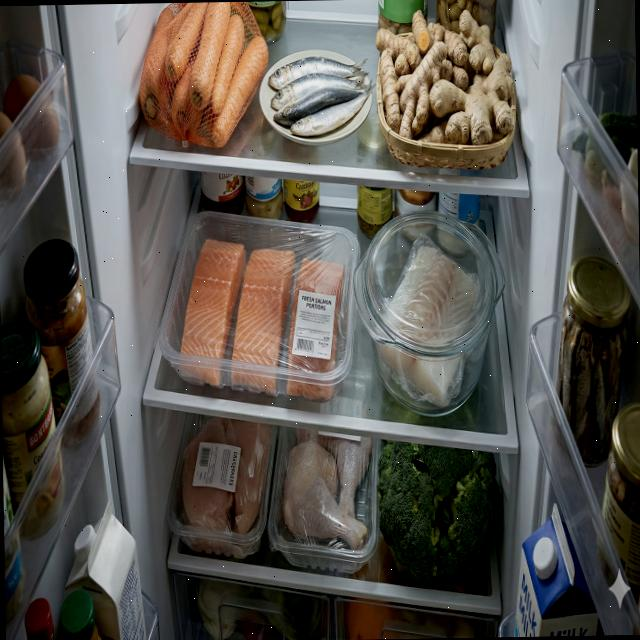brocolli: (377, 436, 502, 586)
carrot: (136, 1, 270, 149)
chicken: (180, 415, 274, 559), (281, 426, 374, 552)
egg: (0, 70, 61, 205)
fish: (378, 243, 479, 410), (176, 238, 248, 386), (228, 246, 298, 397), (268, 54, 377, 138), (284, 256, 347, 399)
